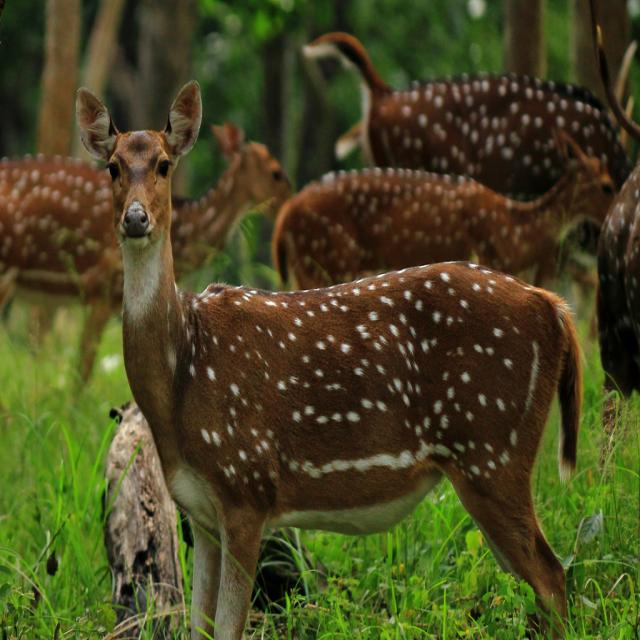Deer: (75, 75, 600, 626), (0, 127, 295, 386), (272, 133, 619, 293), (302, 24, 635, 188), (592, 19, 640, 405)
